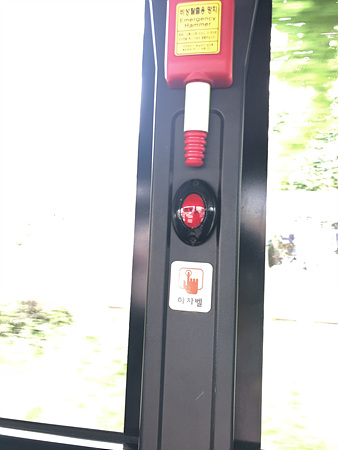bell: (171, 179, 218, 246)
